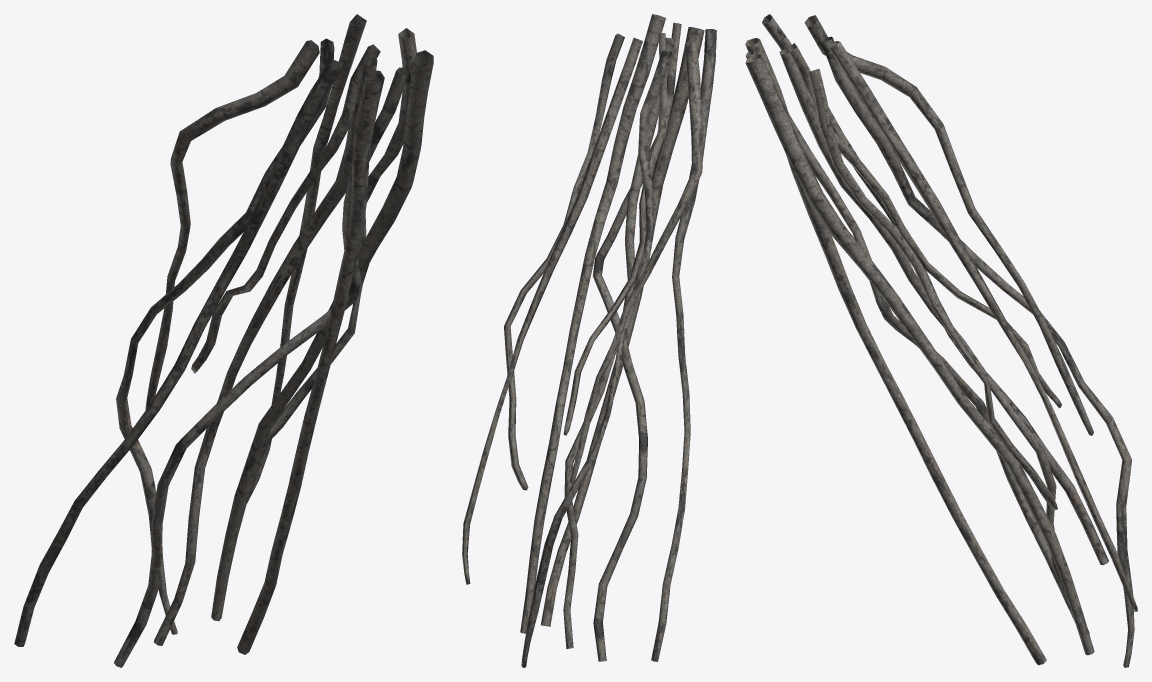
File: tree03_01.fbx
The picture shows the model from 3 angles, left to right: view 1: azimuth 30°, elevation 25°; view 2: azimuth 150°, elevation 25°; view 3: azimuth 270°, elevation 25°; orthographic projection. The views are drawn at different scales.
Visible parts, largest first — view 1: tree03_01; view 2: tree03_01; view 3: tree03_01.
Part boxes in pixels (box(x1,y1,x2,y2)): tree03_01: box(14, 14, 433, 667); tree03_01: box(462, 14, 716, 667); tree03_01: box(745, 14, 1137, 667).
Size of the model in its own units: 755 by 1896 by 1067.
